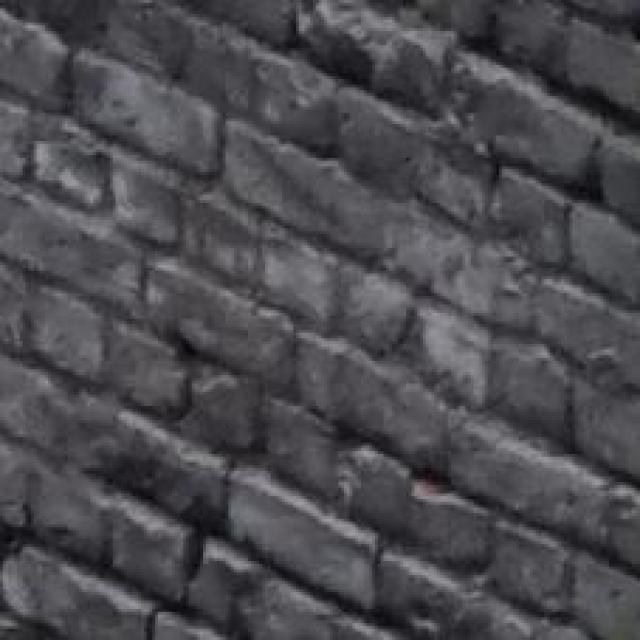Crack: (234, 0, 639, 265)
